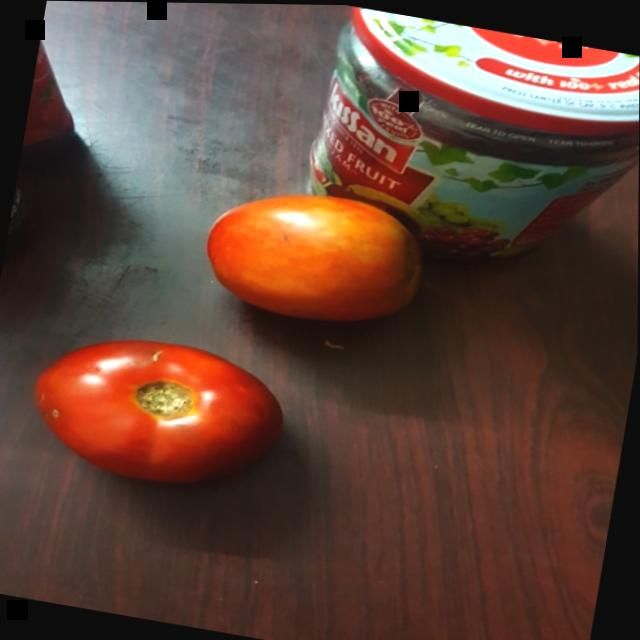tomato: (12, 305, 311, 508), (193, 162, 444, 343)
